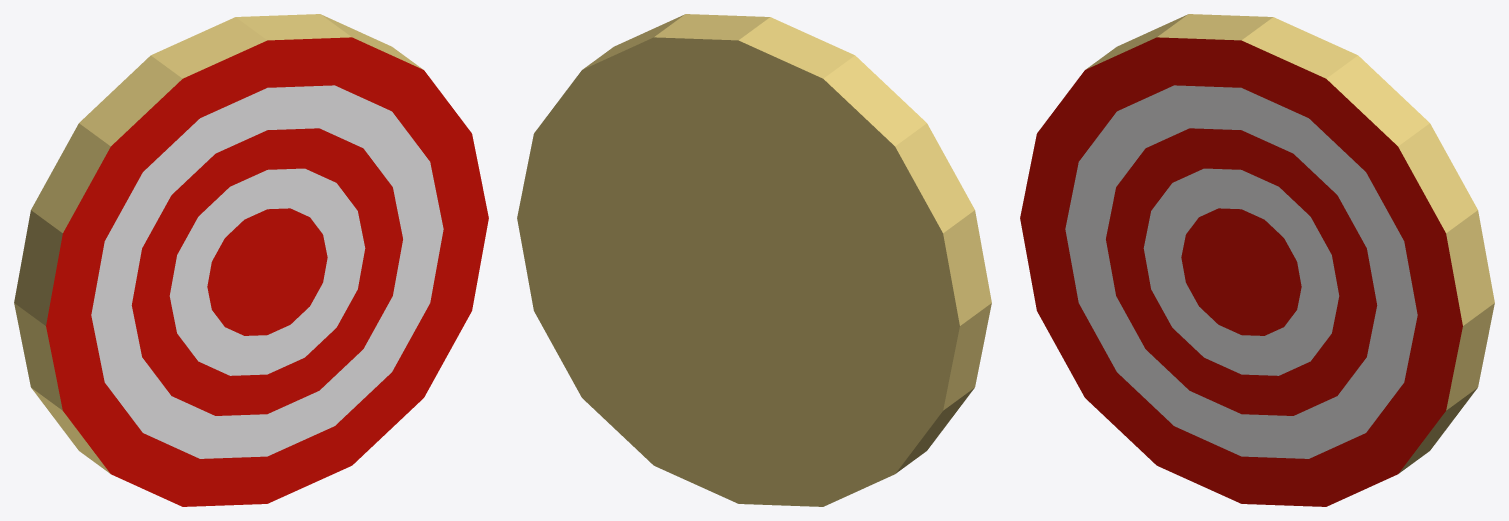
The model's file is Target.fbx.
3 renders of one model, left to right at view 1: azimuth 30°, elevation 25°; view 2: azimuth 150°, elevation 25°; view 3: azimuth 330°, elevation 25°, orthographic.
Parts seen in each view (by area): view 1: Cylinder; view 2: Cylinder; view 3: Cylinder.
Boxes of the visible parts, x1,y1,x2,y2 form: Cylinder: (14,14,488,506); Cylinder: (517,14,991,506); Cylinder: (1020,14,1494,506).
Size of the model in its own units: 200 by 200 by 25.
